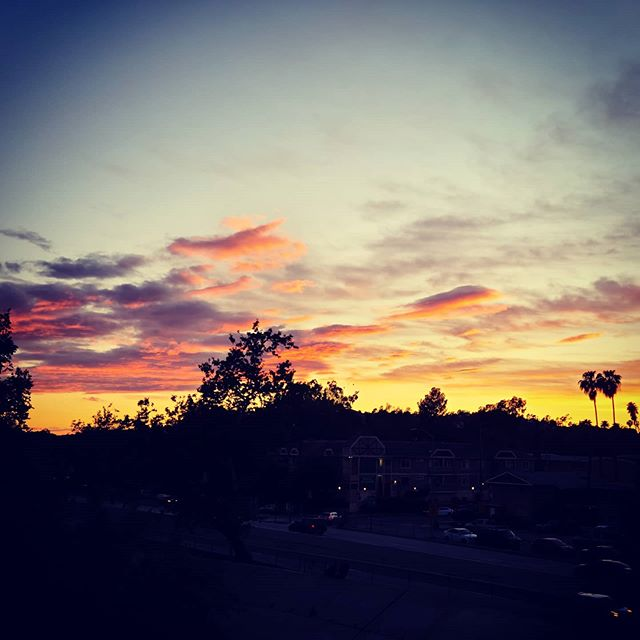building: (317, 435, 494, 516)
sky: (1, 1, 628, 421)
tree: (573, 363, 623, 422)
